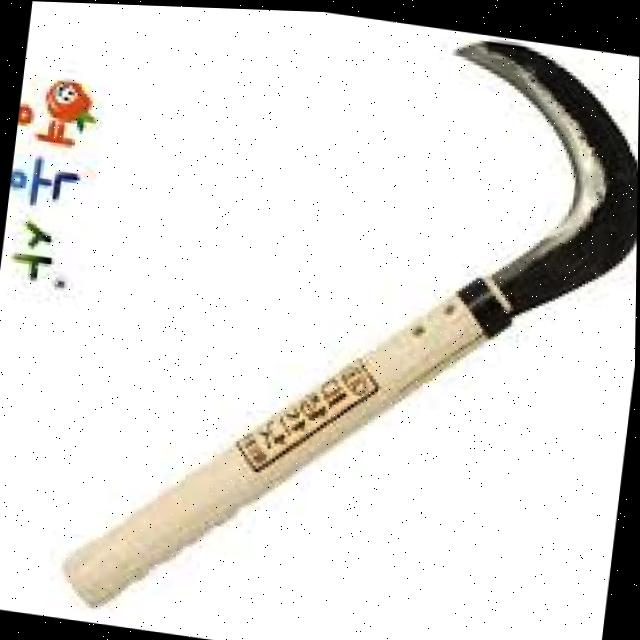sickle: (20, 1, 640, 640)
